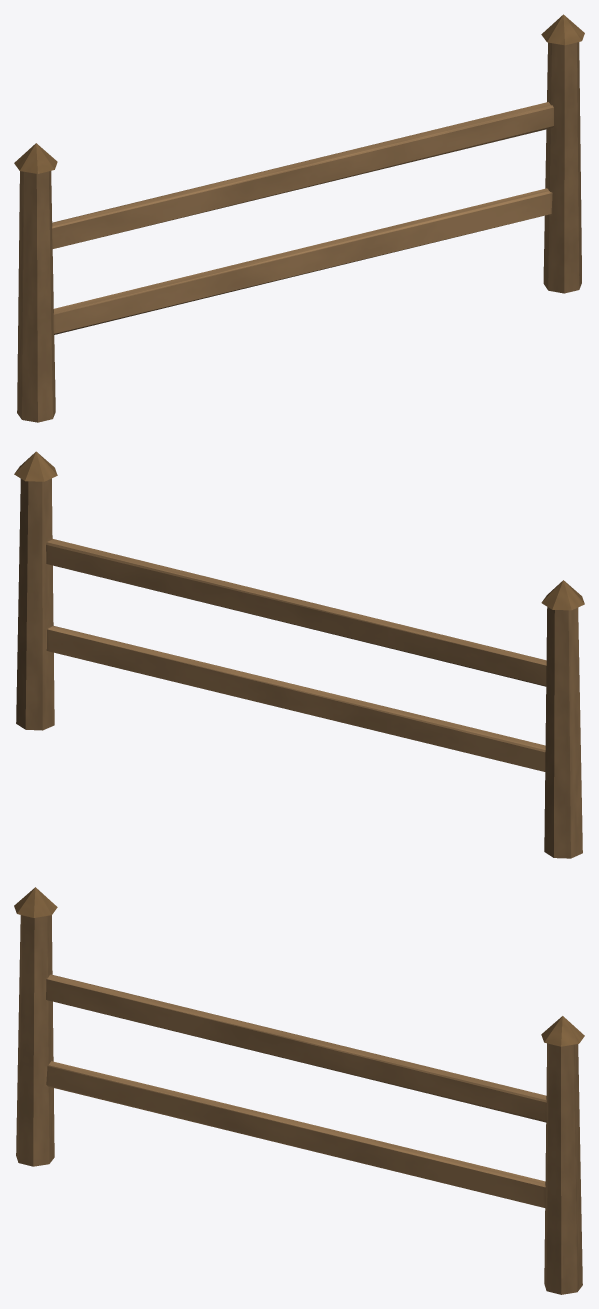
Rendered from fence_seg.lo.glb.
3 views of the same model, one above another, from view 1: azimuth 30°, elevation 25°; view 2: azimuth 150°, elevation 25°; view 3: azimuth 330°, elevation 25° (orthographic).
Parts seen in each view (by area): view 1: fence_seg; view 2: fence_seg; view 3: fence_seg.
Boxes of the visible parts, x1,y1,x2,y2 form: fence_seg: (14, 14, 584, 422); fence_seg: (14, 451, 584, 858); fence_seg: (14, 887, 584, 1294).
Bounding box in the file's own units: 2.47 × 1.13 × 0.1616.
1 material, 1 textured.
